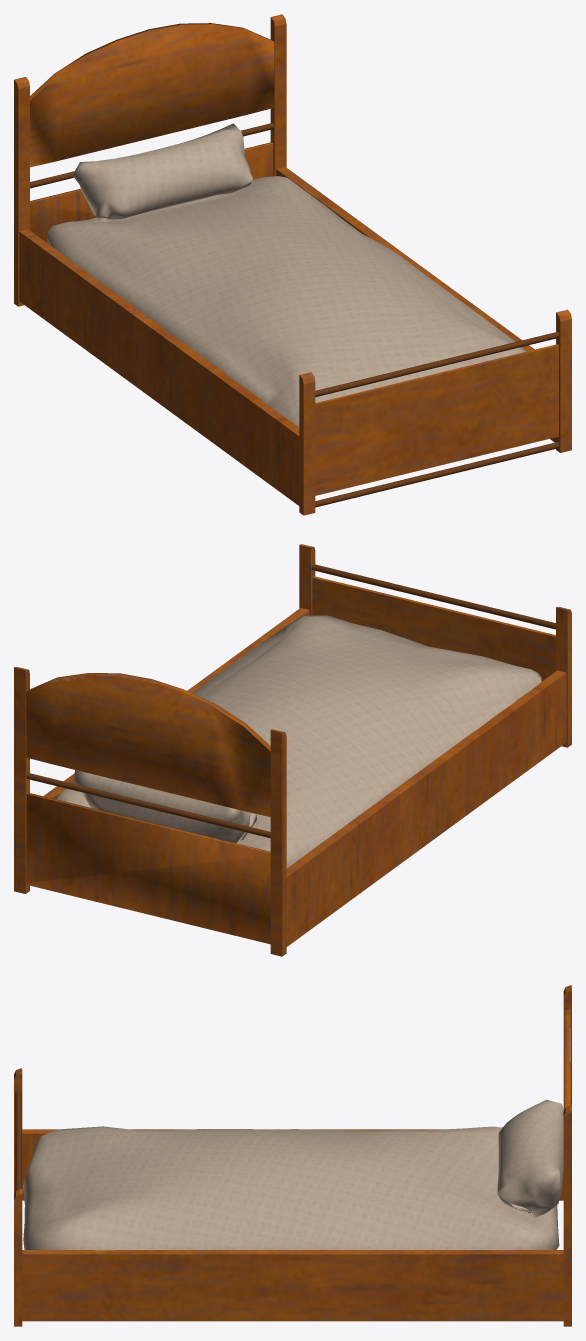
File: bed3.fbx
3 renders of one model, top to bottom at view 1: azimuth 30°, elevation 25°; view 2: azimuth 150°, elevation 25°; view 3: azimuth 270°, elevation 25°, orthographic. The views are drawn at different scales.
Parts seen in each view (by area): view 1: tasho; view 2: tasho; view 3: tasho.
Boxes of the visible parts, x1,y1,x2,y2 form: tasho: [14, 14, 571, 515]; tasho: [14, 544, 571, 956]; tasho: [14, 985, 571, 1326].
Size of the model in its own units: 0.9607 by 0.8292 by 1.8.
Materials: 1 (1 with a texture image).
